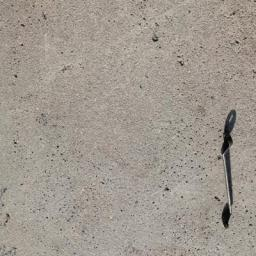FOD: (211, 113, 240, 230)
